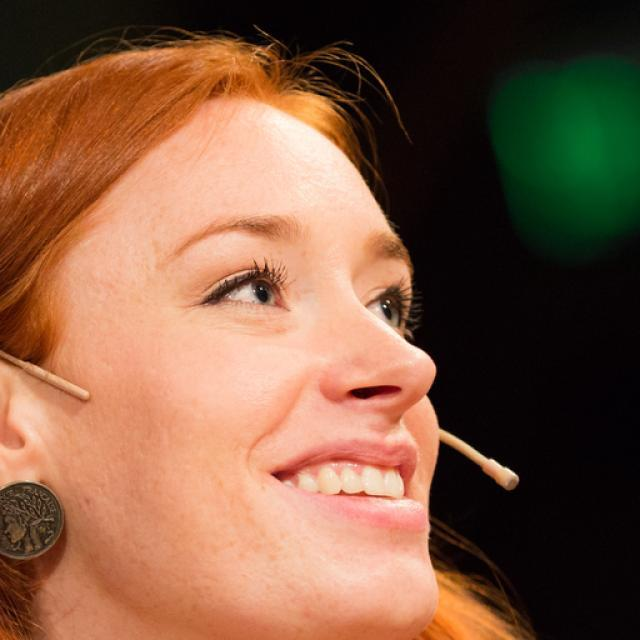happy: (66, 89, 442, 640)
